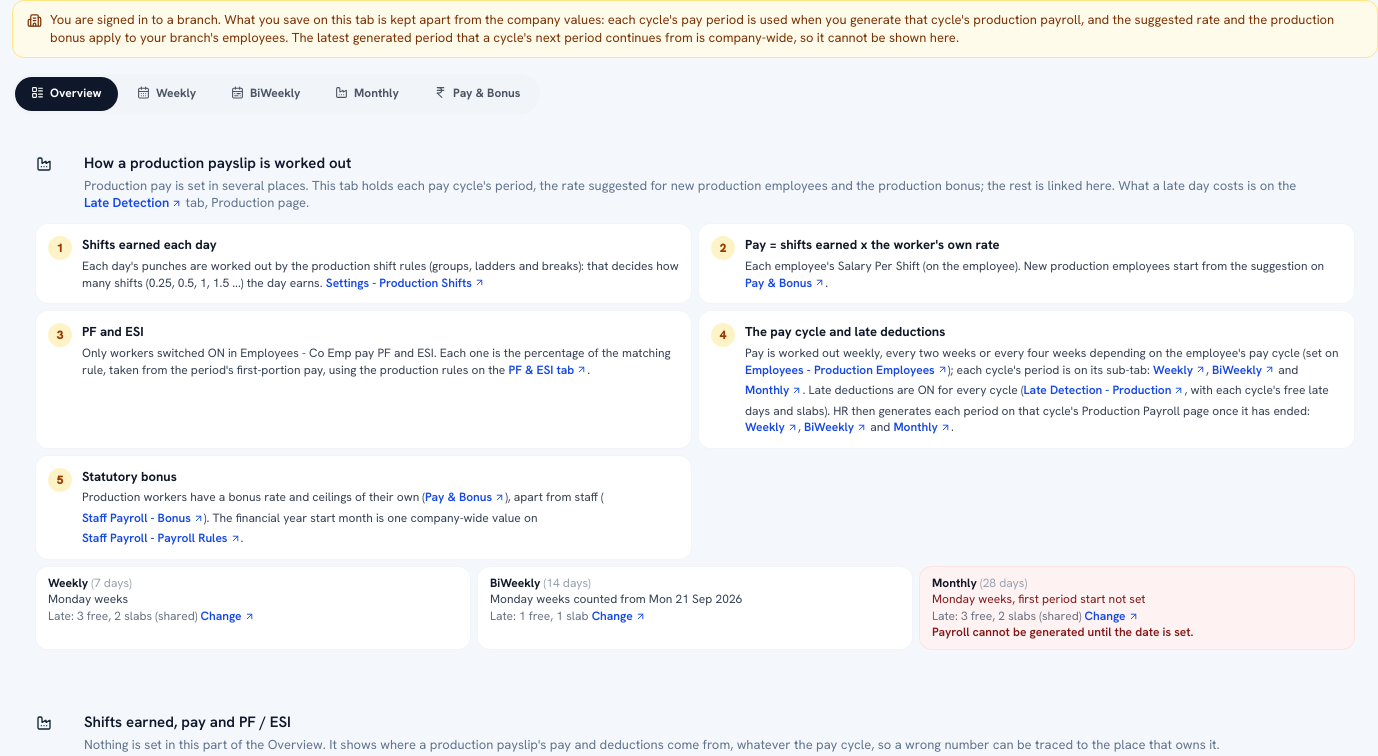
Test case: Settings -> Production Payroll › tells a branch login the latest generated period is not known, and locks nothing by itself
This screenshot has width=1378, height=756.
Expected: the element with test id "settings-branch-notice" is shown, [12,0,1377,58]
Click the tab "Weekly" at {"x": 166, "y": 94}, box [121,77,212,111]
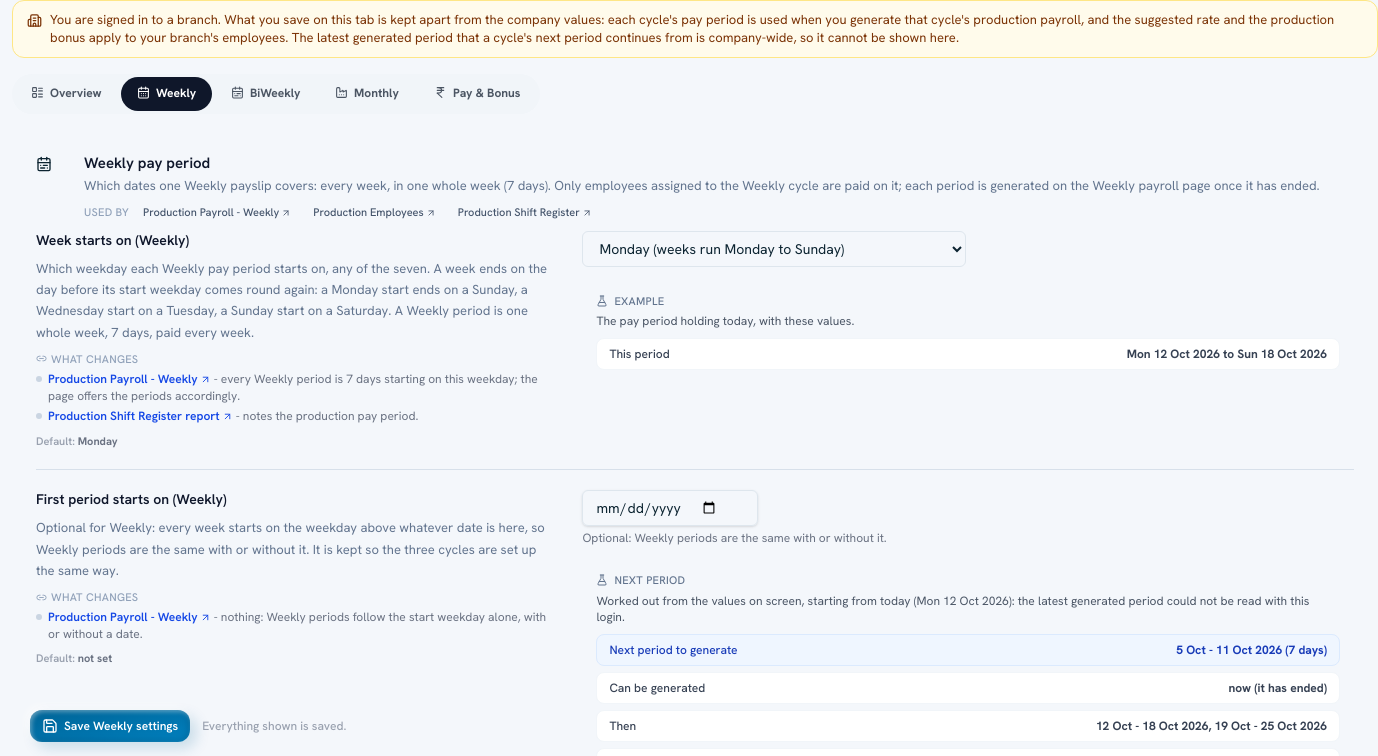
Expected: the element with test id "weekly-next-period-preview" shows "could not be read with this login", [596,593,1309,625]
Expected: the dropdown with id "weekly-week-start-input" is enabled, [582,231,966,267]
